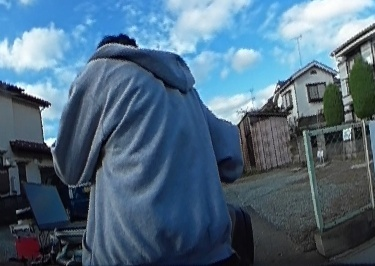person: (57, 34, 244, 266)
